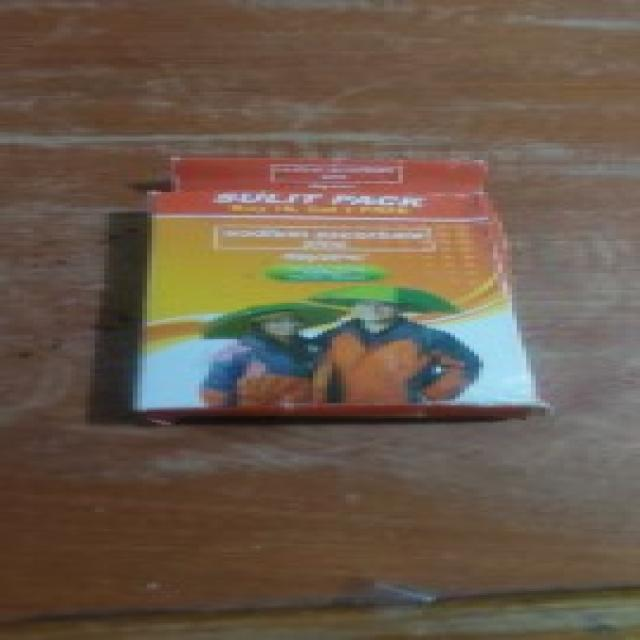Cacat: (149, 156, 500, 418)
